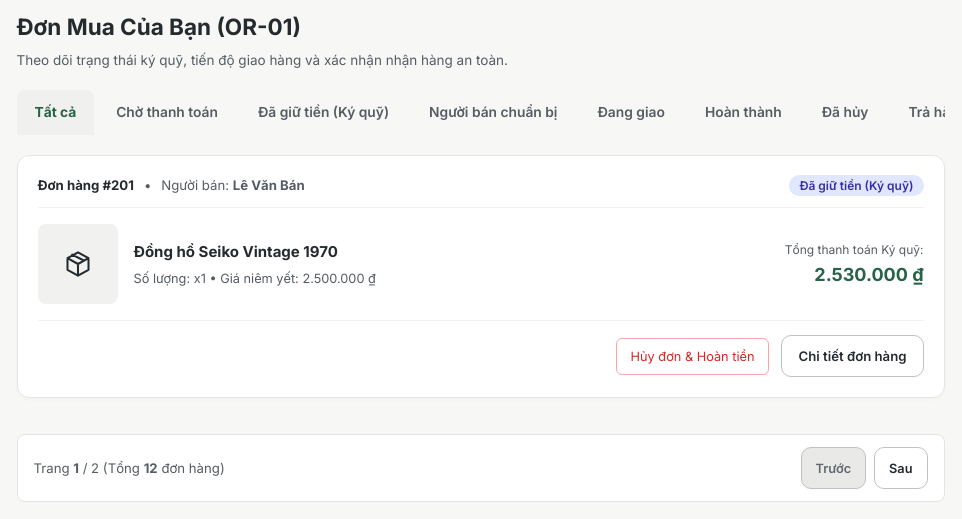
Test: BuyerOrdersView Component › navigates to next page on click Sau and disables Sau on last page
This screenshot has width=962, height=519.
Expected: the heading "Đồng hồ Seiko Vintage 1970" is shown, [134,242,338,261]
What coordinates should you click on to do the following:
click the button "Sau"
I would click on:
 (901, 468)
Its box is [874,448,928,490].
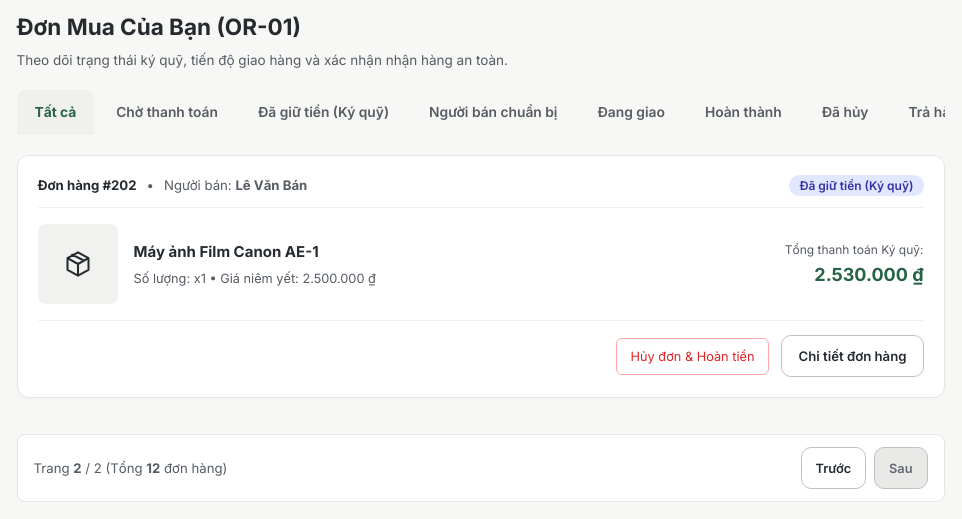
Now the heading "Máy ảnh Film Canon AE-1" is shown, box [134,242,319,261]
Now the text "Trang 2 / 2 (Tổng 12 đơn hàng)" is shown, box [34,459,227,478]
Now the button "Trước" is enabled, box [800,448,866,490]
